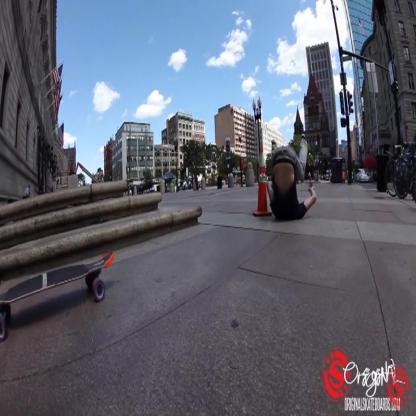Fall_Down: (265, 132, 317, 223)
